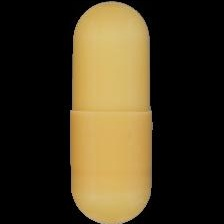0093-5506: (0, 0, 224, 224)
